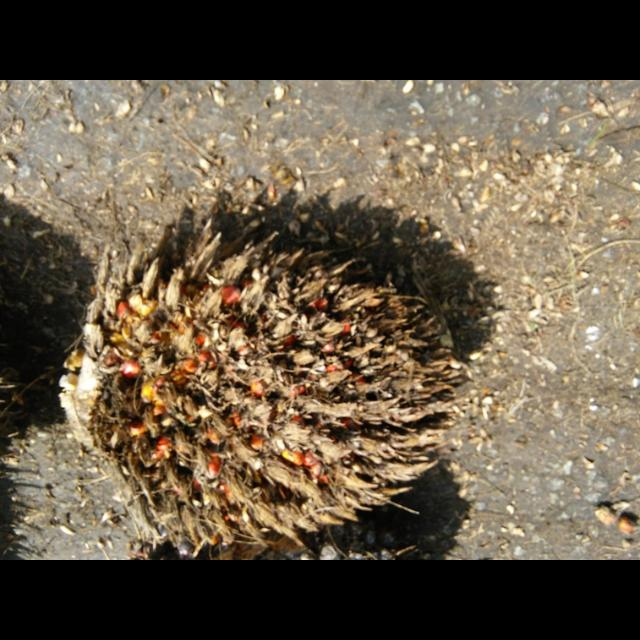Empty: (81, 264, 461, 549)
